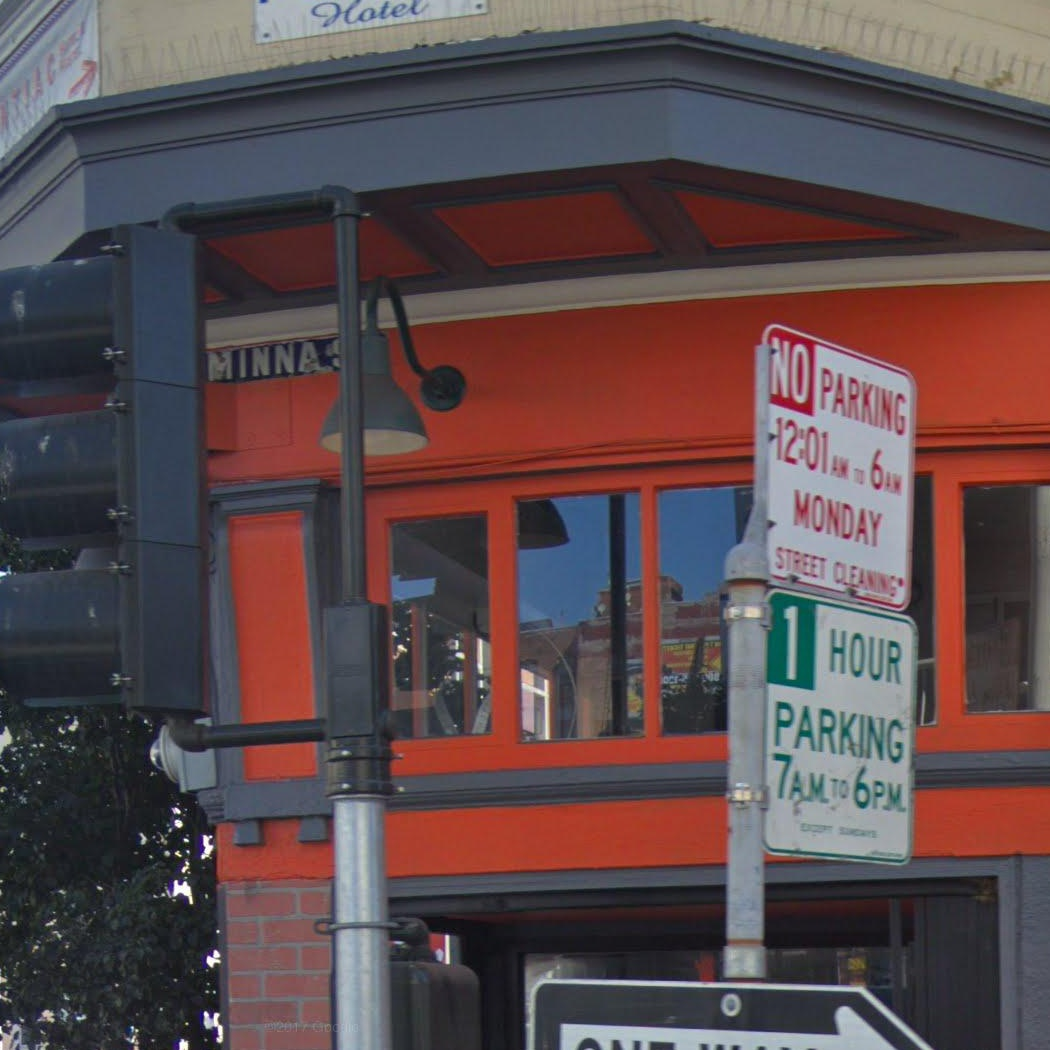1 Hour Parking: (760, 587, 916, 866)
No Parking: (761, 323, 915, 611)
